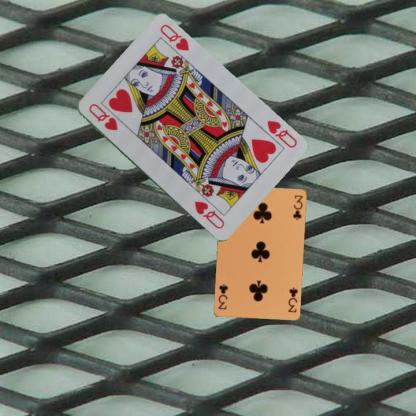3c: (285, 285, 299, 314)
Qh: (264, 117, 298, 150), (86, 100, 119, 132)
